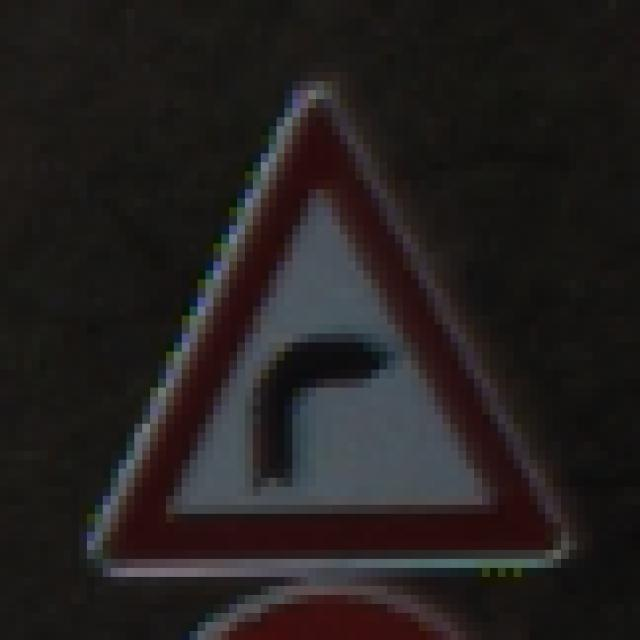right hand curve: (74, 75, 574, 590)
